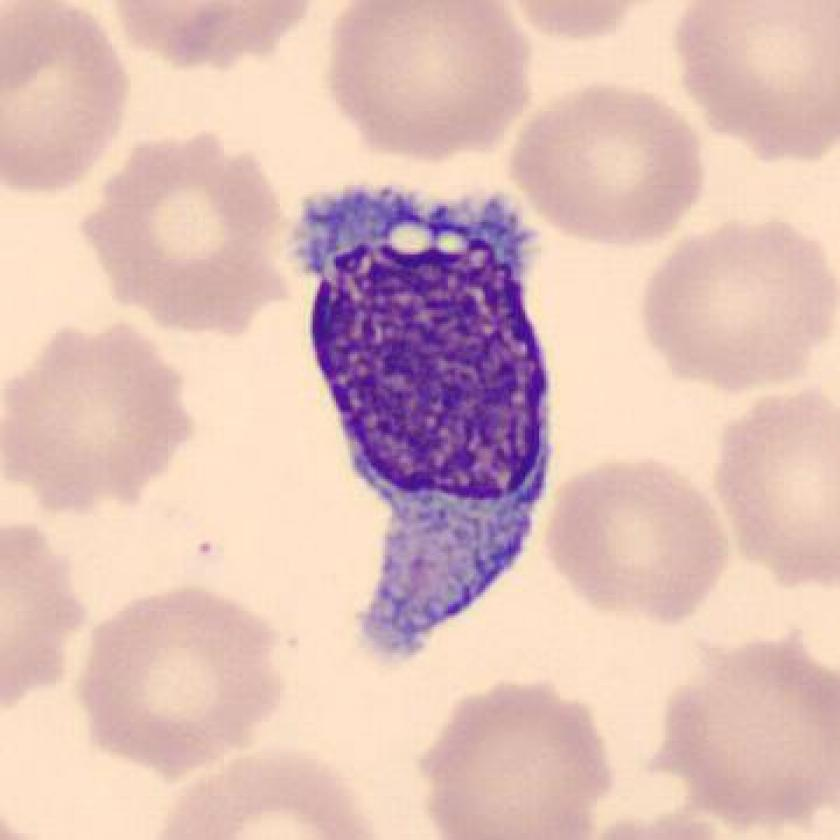monocyte: (267, 156, 580, 681)
